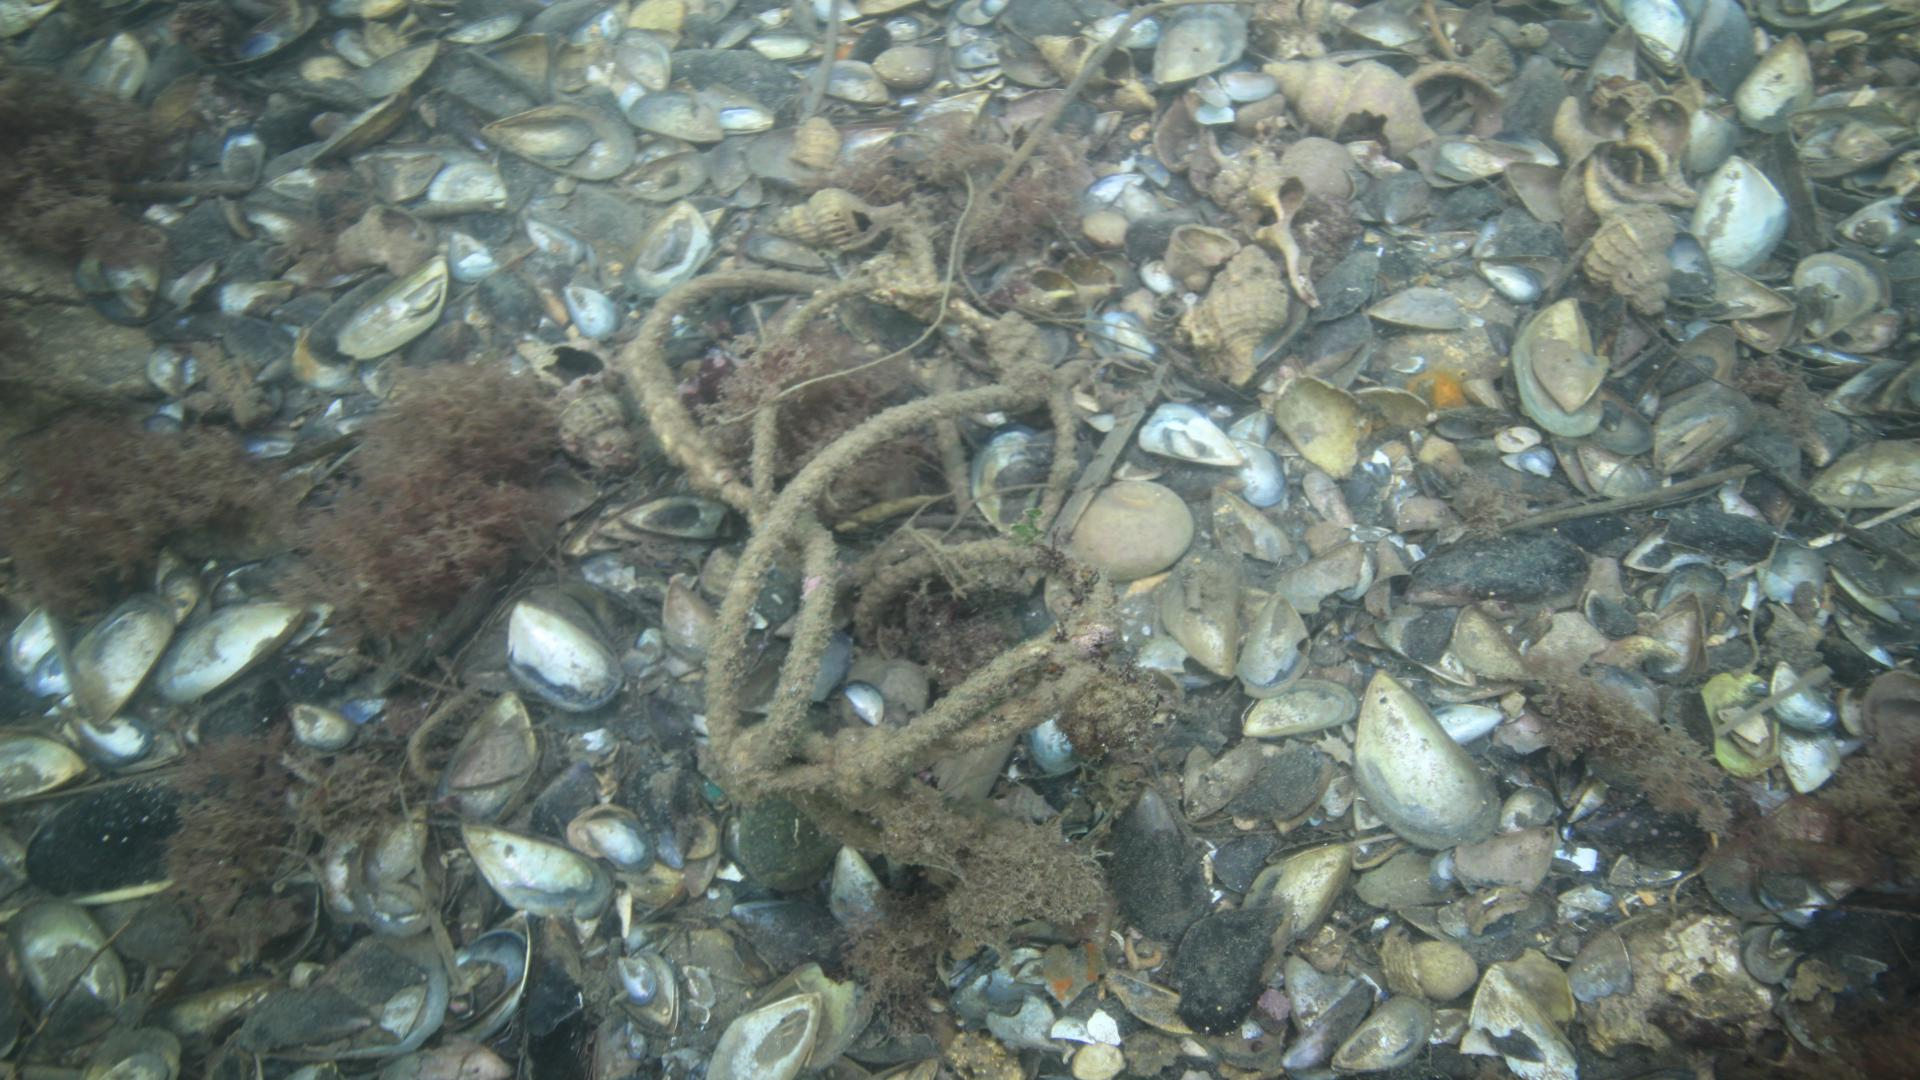bundle of ropes: (622, 222, 1118, 808)
